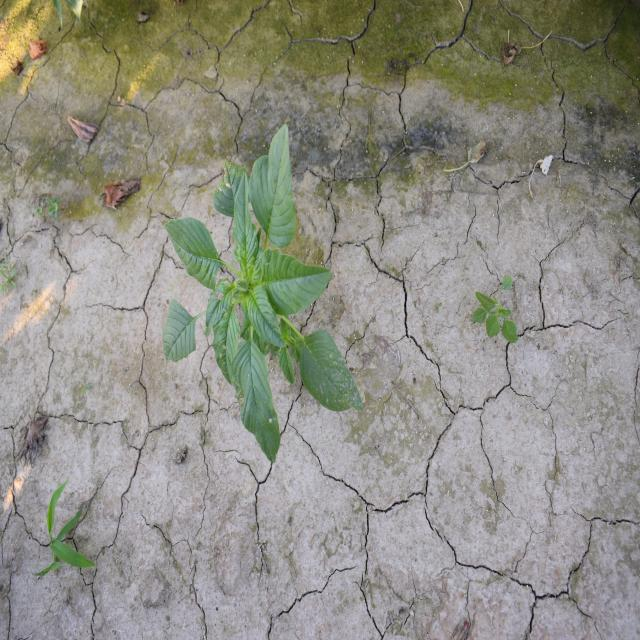PalmerAmaranth: (161, 121, 367, 466), (472, 273, 520, 345)
